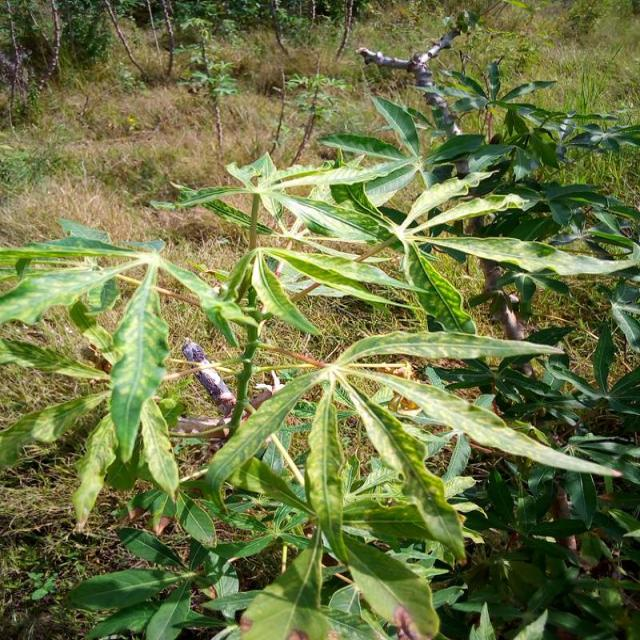cassava leaf: (106, 253, 170, 464)
